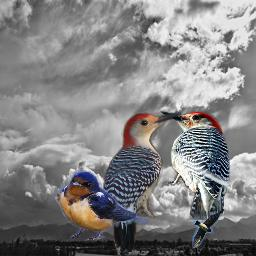Swallow: (54, 170, 149, 243), (192, 211, 220, 248)
Woodpecker: (99, 112, 181, 252), (156, 105, 234, 220)
